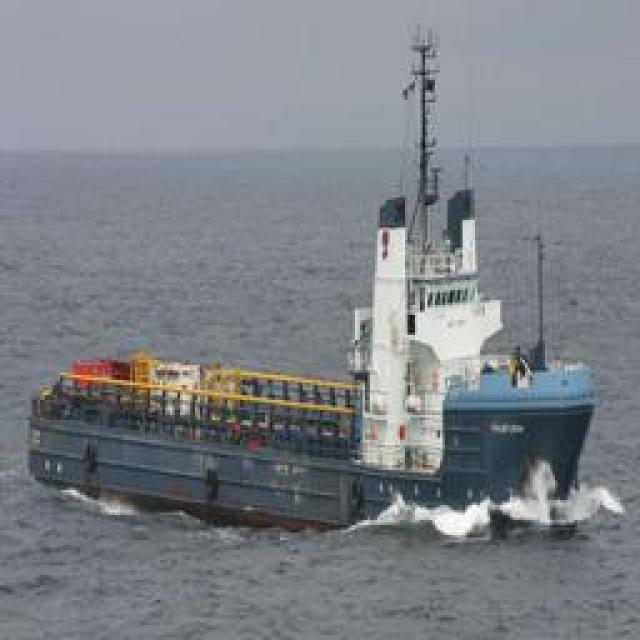CIV_Ship: (24, 272, 604, 530)
